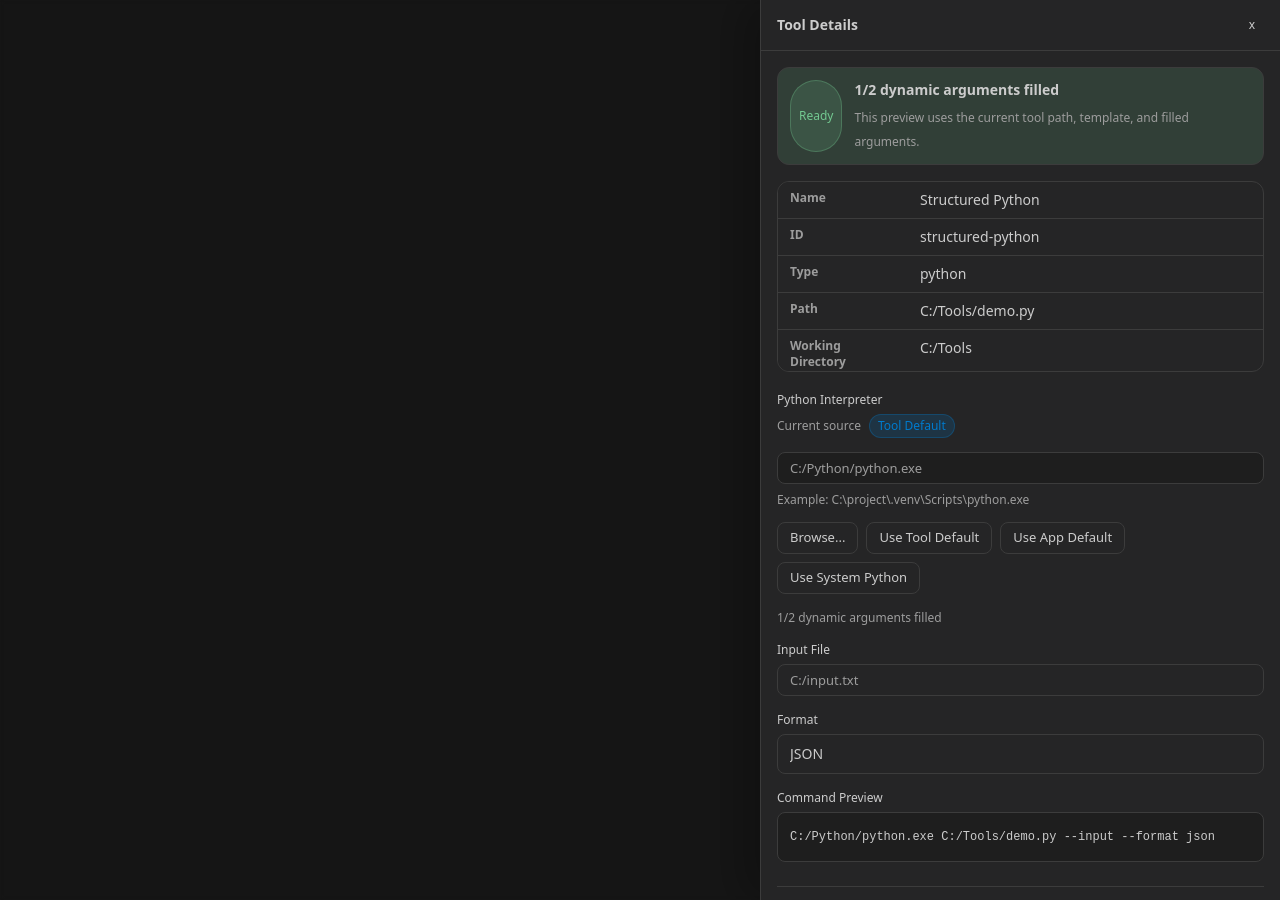
Test case: ToolRunner › renders structured argument fields and previews commands without argsTemplate
Type "C:/data/source.txt" into the field with placeholder "C:/input.txt" at (1020, 680), box [777,664,1264,696]
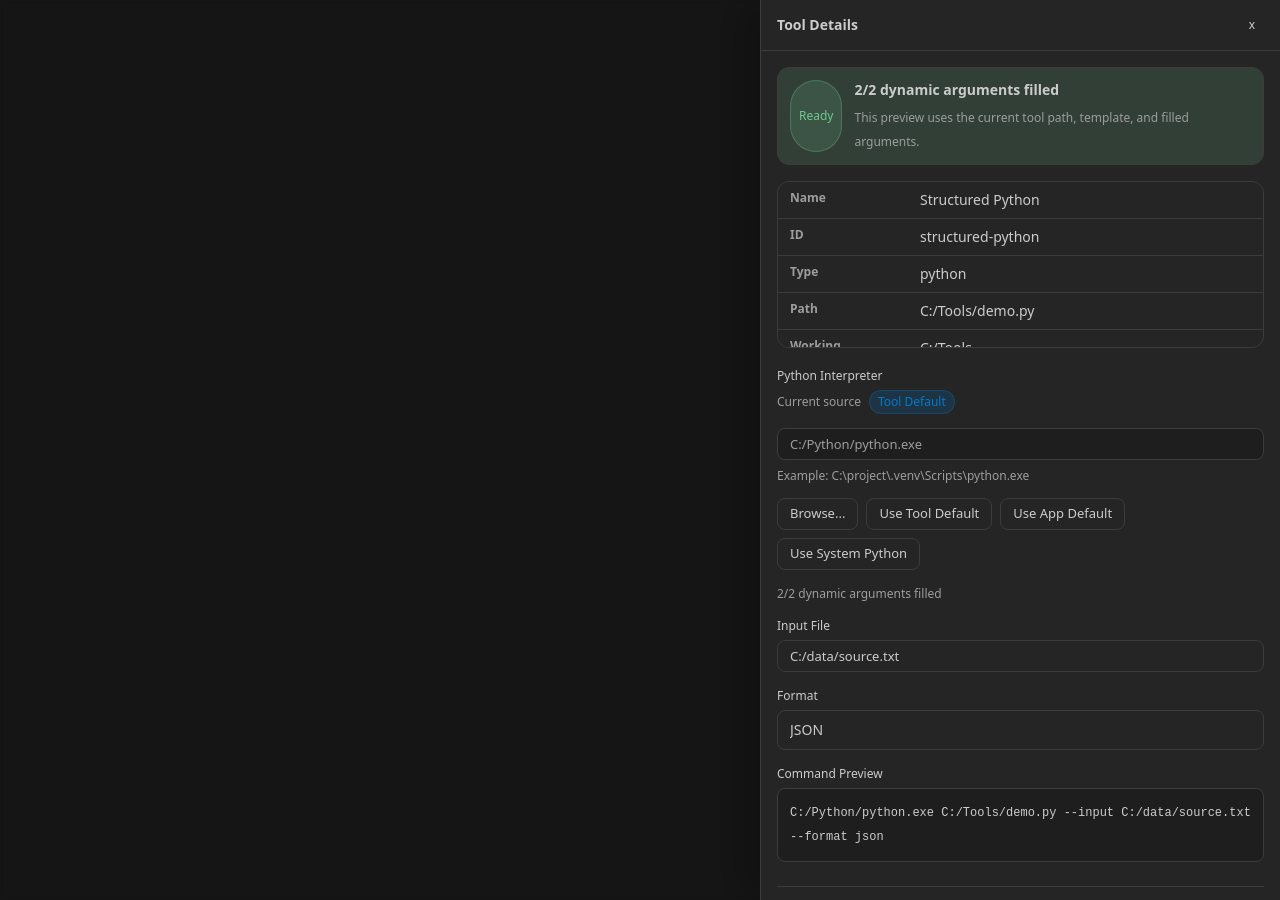
Now the text "--input C:/data/source.txt --format json" is shown, box [790,806,1251,844]
